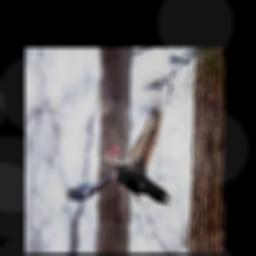Woodpecker: (66, 90, 171, 204)
